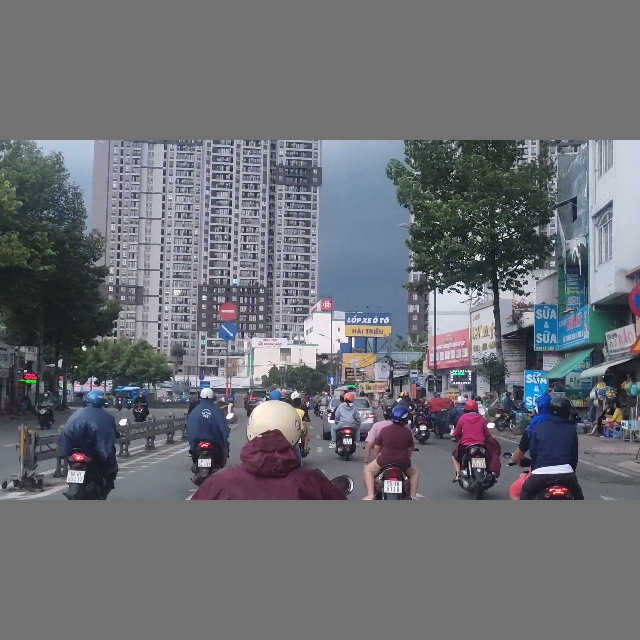I.407a: (327, 375, 336, 385)
I.434a: (409, 369, 419, 381)
P.102: (220, 303, 237, 320)
P.130: (629, 276, 640, 316)
R.302a: (219, 321, 238, 341)
